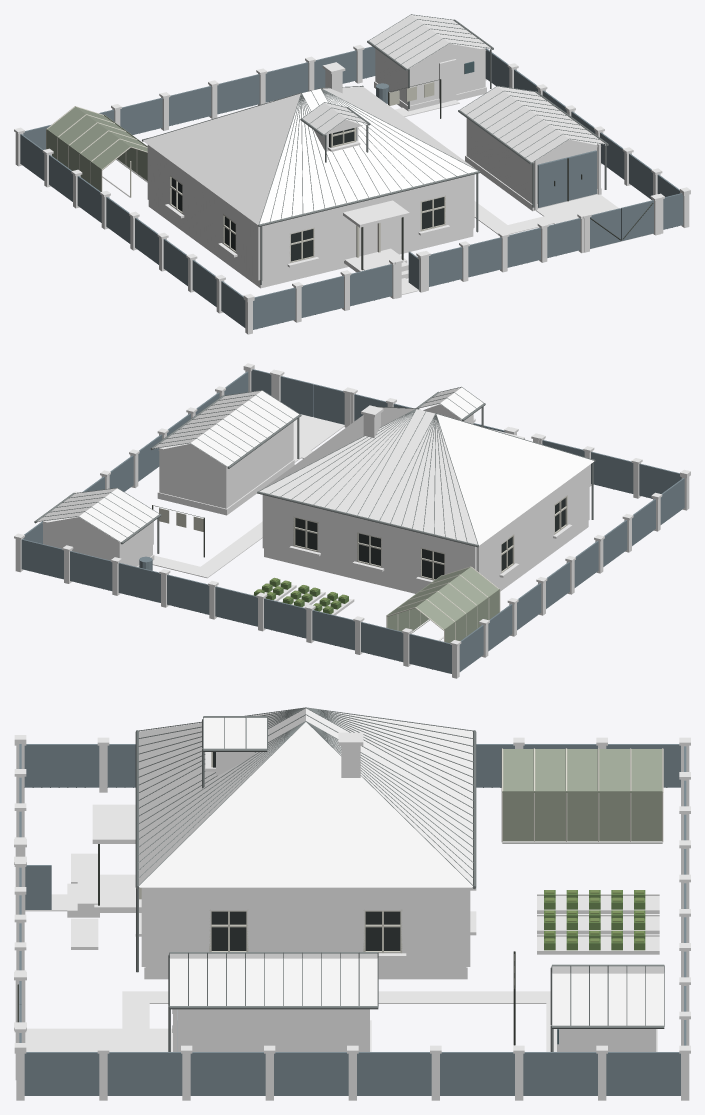
The picture shows the model from 3 angles, top to bottom: view 1: azimuth 30°, elevation 25°; view 2: azimuth 150°, elevation 25°; view 3: azimuth 270°, elevation 25°; orthographic projection. The views are drawn at different scales.
Visible parts, largest first — view 1: ParcelGeometry.018; view 2: ParcelGeometry.018, SummerPlanting.016; view 3: ParcelGeometry.018, SummerPlanting.016.
Boxes of the visible parts, bbox=[...] form: ParcelGeometry.018: bbox=[14, 14, 690, 334]; ParcelGeometry.018: bbox=[14, 363, 690, 678]; SummerPlanting.016: bbox=[159, 508, 348, 614]; ParcelGeometry.018: bbox=[14, 707, 690, 1100]; SummerPlanting.016: bbox=[514, 890, 645, 987].
Bounding box in the file's own units: 23.08 × 6.66 × 21.1.
